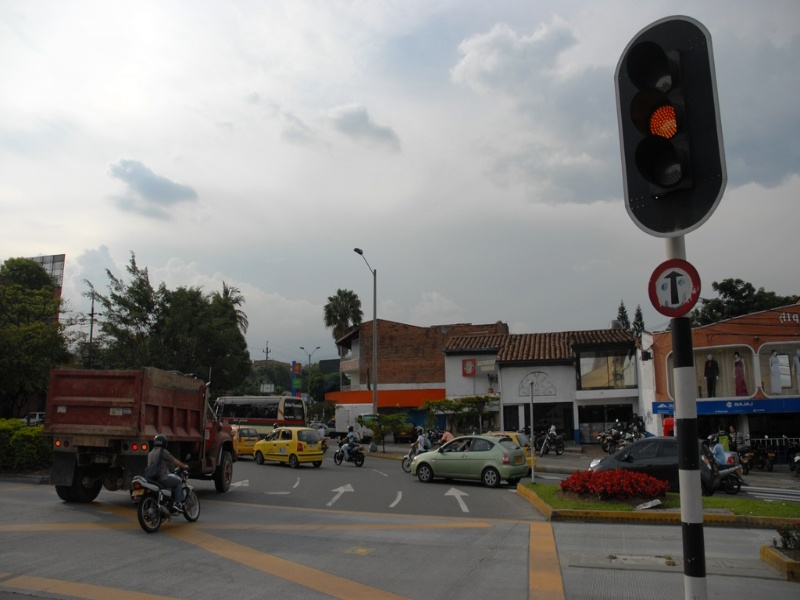red_light: (601, 32, 727, 198)
